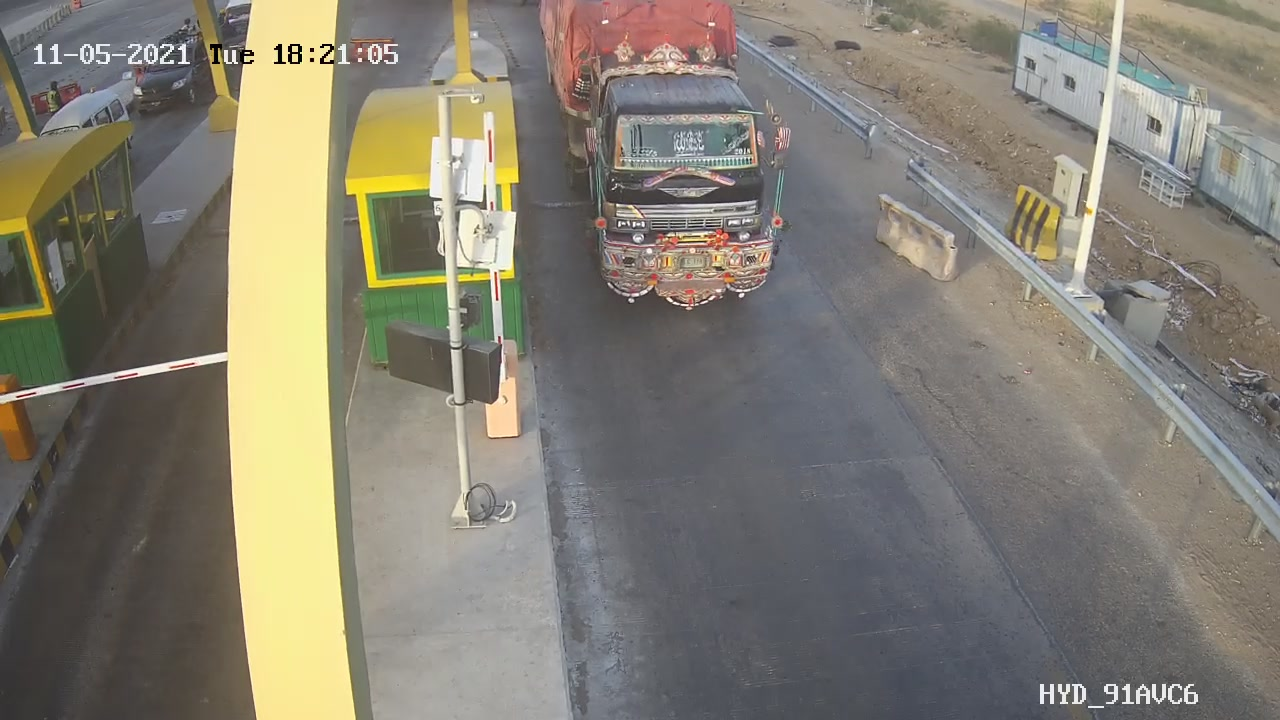F6: (540, 24, 799, 320)
